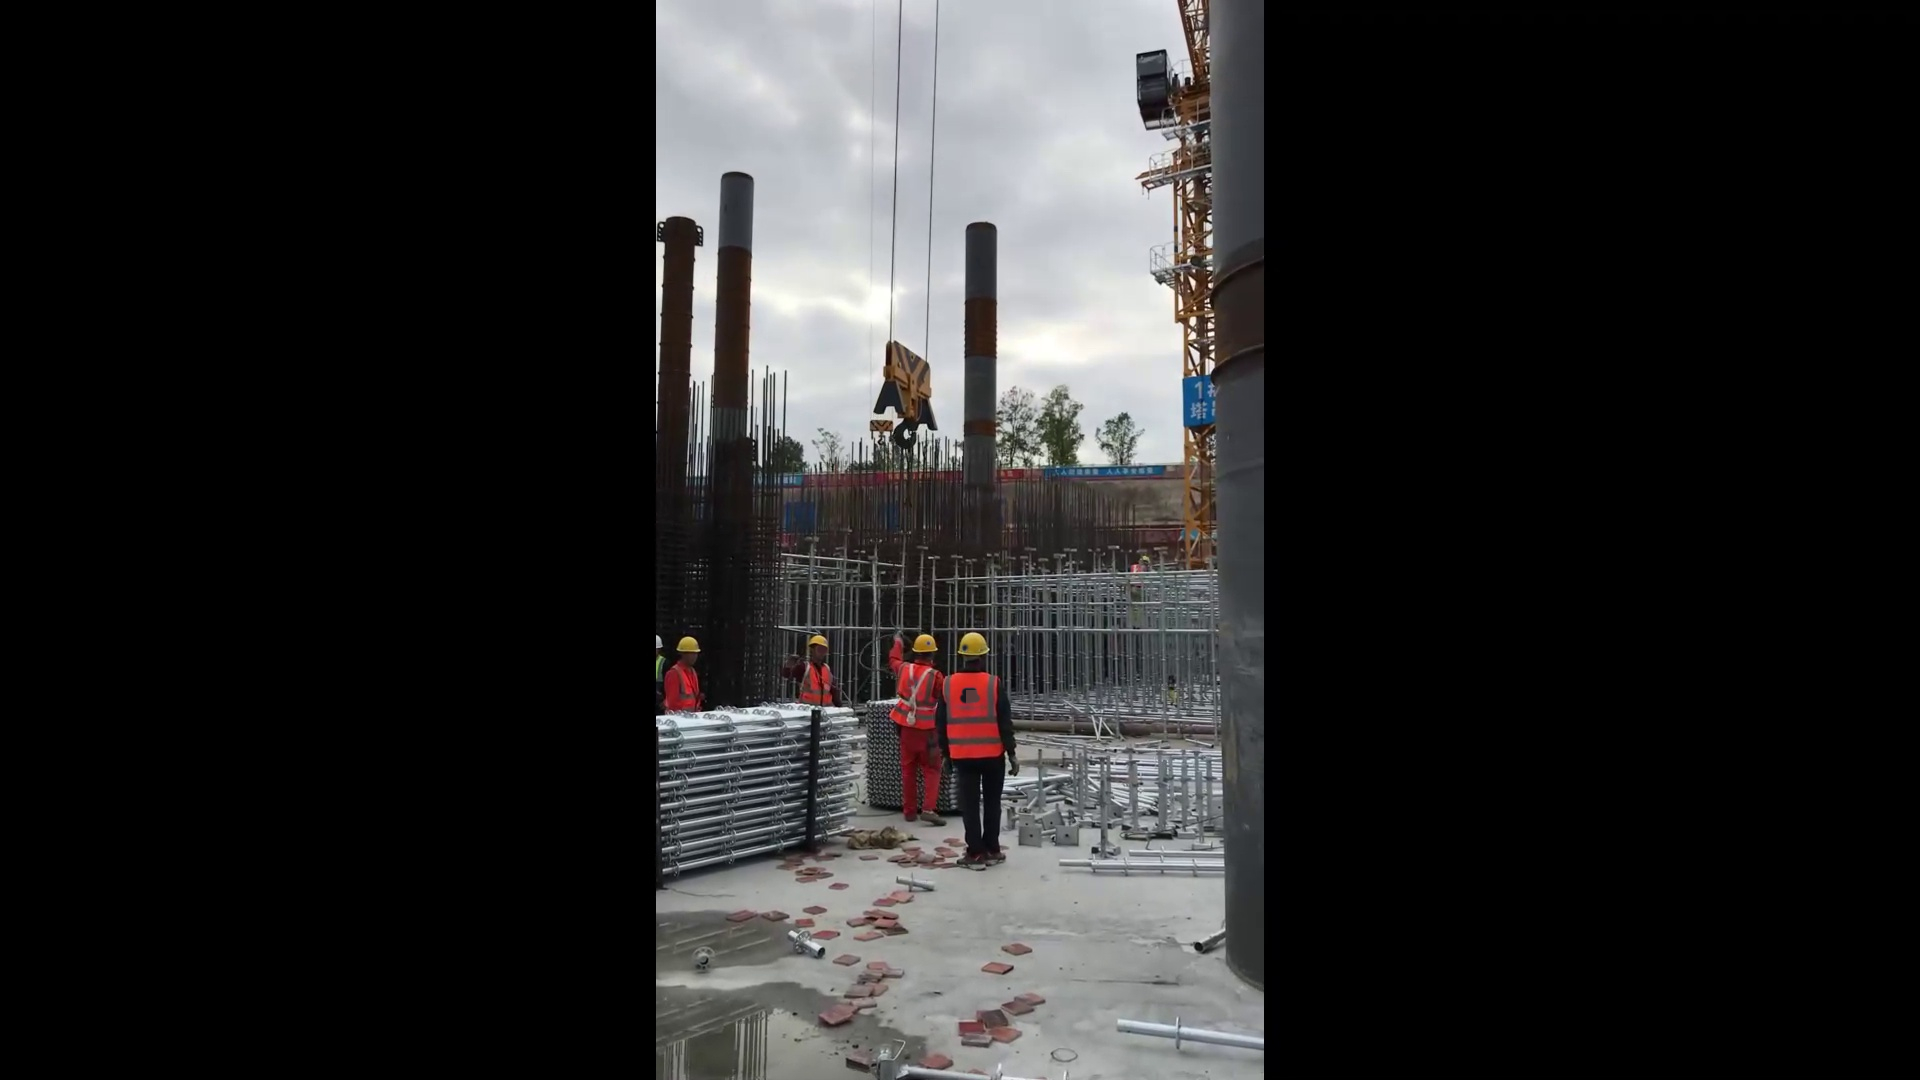helmet: (952, 626, 996, 663), (904, 627, 940, 658), (672, 632, 710, 658), (800, 627, 832, 656)
hook: (857, 331, 957, 464)
person: (941, 623, 1029, 879), (879, 621, 956, 831), (782, 626, 840, 719), (658, 630, 706, 724)
scaffold: (655, 702, 862, 893)
slogan: (1052, 465, 1167, 479)
vest: (939, 670, 1005, 761), (889, 656, 937, 730), (664, 660, 707, 719), (795, 657, 837, 710)
